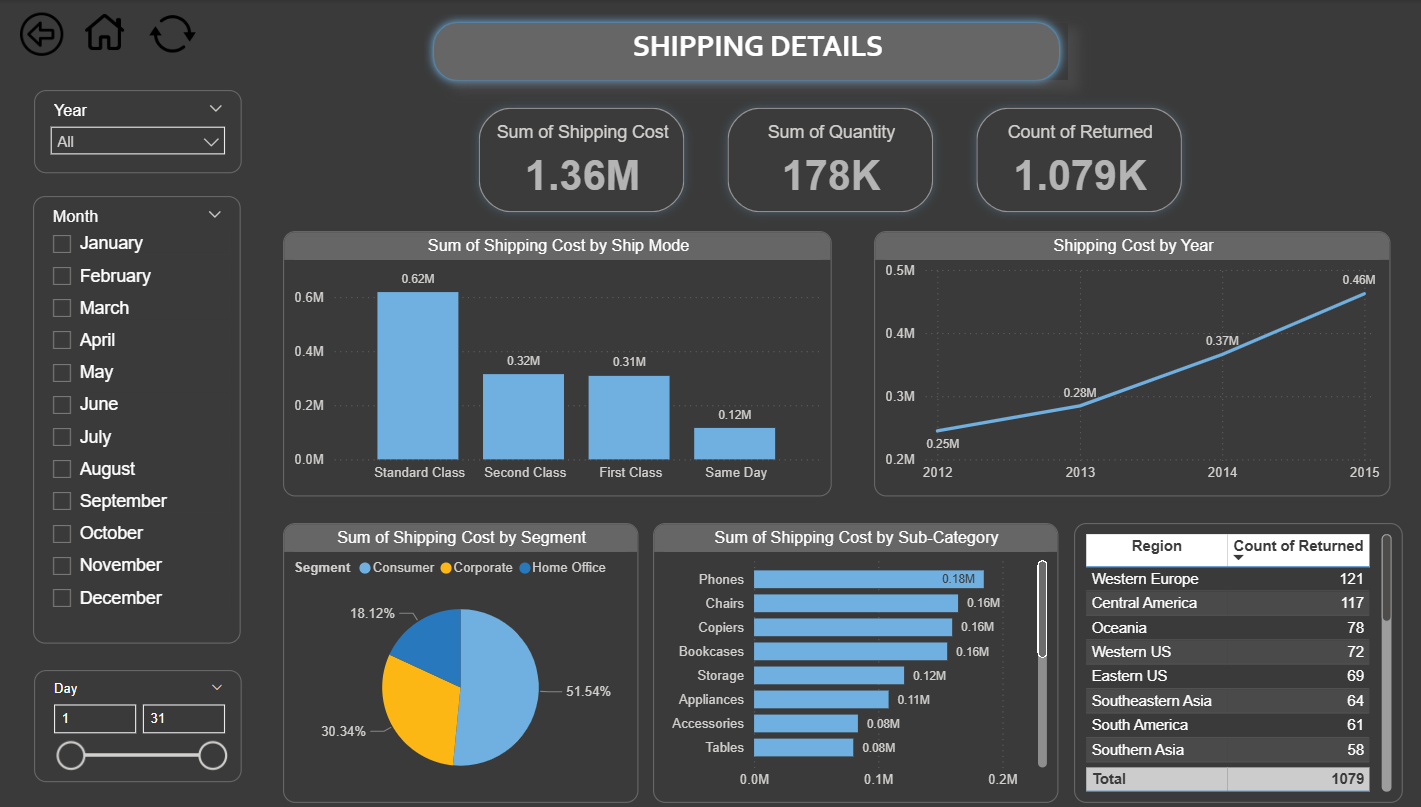

This screenshot's page, from the dashboard's own definition file:
{"tool":"powerbi","page":{"name":"Page 3","canvas":[1280,731],"ordinal":2},"visuals":[{"type":"shape","box":[381.7,11.7,580.7,69.3],"z":0},{"type":"textbox","box":[403.3,20.7,558.2,51.3],"z":1000},{"type":"columnChart","fields":{"Y":["Sum(Orders.Shipping Cost)"],"Category":["Orders.Ship Mode"]},"box":[254.8,208,494.2,238.6],"z":3000},{"type":"slicer","fields":{"Values":["Orders.Ship Date.Variation.Date Hierarchy.Month"]},"box":[29.7,176.4,187.3,403.3],"z":4000},{"type":"slicer","fields":{"Values":["Orders.Ship Date.Variation.Date Hierarchy.Year"]},"box":[30.6,81,187.3,74.7],"z":5000},{"type":"slicer","fields":{"Values":["Orders.Ship Date.Variation.Date Hierarchy.Day"]},"box":[30.6,603.2,187.3,100.8],"z":6000},{"type":"lineChart","title":"Shipping Cost by Year","fields":{"Y":["Sum(Orders.Shipping Cost)"],"Category":["Orders.Order Date.Variation.Date Hierarchy.Year"]},"box":[786.8,208,465.4,238.6],"z":7000},{"type":"pieChart","fields":{"Category":["Orders.Segment"],"Y":["Sum(Orders.Shipping Cost)"]},"box":[254.8,470.8,319.6,252.1],"z":8000},{"type":"barChart","fields":{"Y":["Sum(Orders.Shipping Cost)"],"Category":["Orders.Sub-Category"]},"box":[587.9,470.8,364.6,252.1],"z":9000},{"type":"tableEx","fields":{"Values":["Returns.Region","Returns.Returned"]},"box":[966.9,470.8,296.2,252.1],"z":10000},{"type":"image","box":[56.7,1.8,74.7,56.7],"z":11000},{"type":"image","box":[0,6.3,75.5,49],"z":12000},{"type":"image","box":[123.3,4.5,64.8,52.2],"z":13000},{"type":"cardVisual","fields":{"Data":["Sum(Orders.Shipping Cost)","Sum(Orders.Quantity)","CountNonNull(Returns.Returned)"]},"box":[415,81,665.3,126.9],"z":14000}]}

Visuals, with their boxes in screenshot pixels (x1, y1, x2, y2), scaled from the page's 1280x731 canvas onto the 1421x807 screenshot:
shape: <region>424, 13, 1068, 89</region>
textbox: <region>448, 23, 1067, 79</region>
columnChart - Sum(Orders.Shipping Cost) x Orders.Ship Mode: <region>283, 230, 832, 493</region>
slicer - Orders.Ship Date.Variation.Date Hierarchy.Month: <region>33, 195, 241, 640</region>
slicer - Orders.Ship Date.Variation.Date Hierarchy.Year: <region>34, 89, 242, 172</region>
slicer - Orders.Ship Date.Variation.Date Hierarchy.Day: <region>34, 666, 242, 777</region>
"Shipping Cost by Year" lineChart: <region>873, 230, 1390, 493</region>
pieChart - Orders.Segment x Sum(Orders.Shipping Cost): <region>283, 520, 638, 798</region>
barChart - Sum(Orders.Shipping Cost) x Orders.Sub-Category: <region>653, 520, 1057, 798</region>
tableEx - Returns.Region x Returns.Returned: <region>1073, 520, 1402, 798</region>
image: <region>63, 2, 146, 65</region>
image: <region>0, 7, 84, 61</region>
image: <region>137, 5, 209, 63</region>
cardVisual - Sum(Orders.Shipping Cost) x Sum(Orders.Quantity): <region>461, 89, 1199, 230</region>
